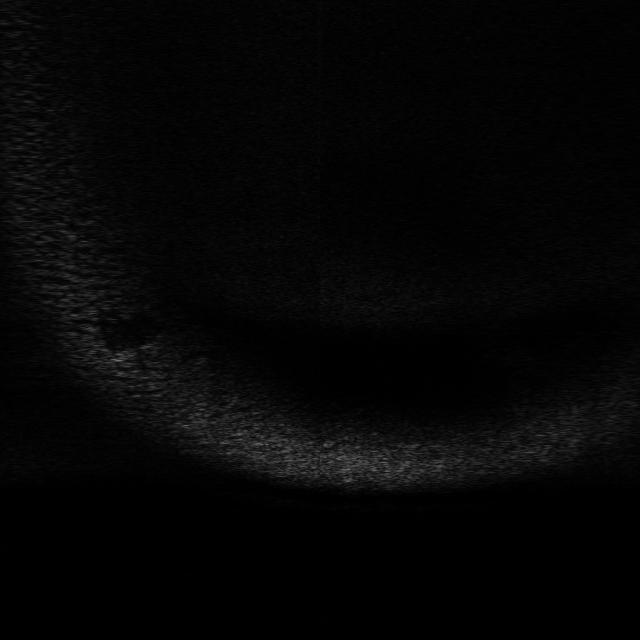plane: (91, 338, 168, 368)
